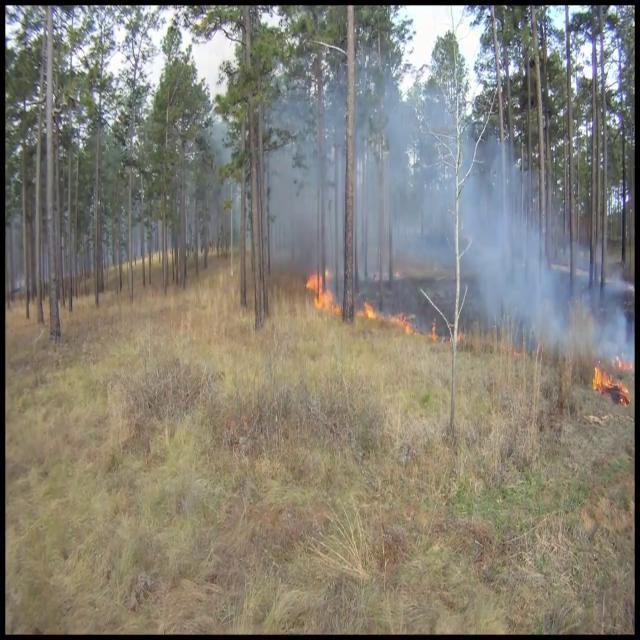Fire: (302, 259, 338, 311), (590, 358, 612, 395)
Smoke: (432, 120, 632, 380), (294, 42, 486, 270)
